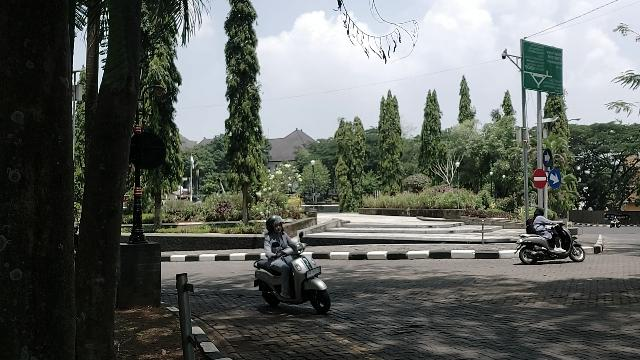helm: (266, 217, 284, 235)
motor: (255, 245, 331, 318), (515, 225, 586, 266)
non-helm: (536, 208, 546, 216)
